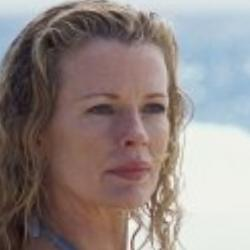face: (1, 3, 201, 244)
